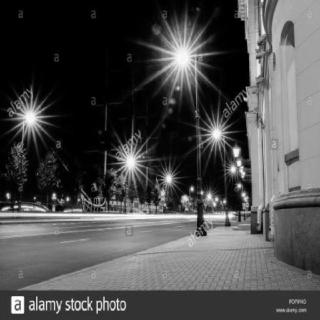other: (227, 146, 247, 207)
